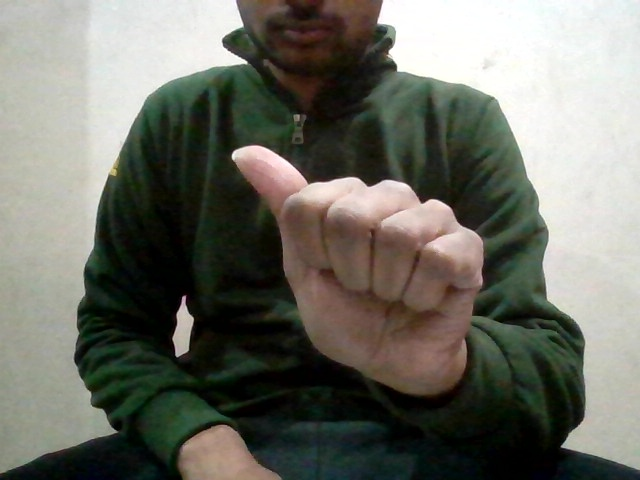A: (226, 139, 515, 392)
